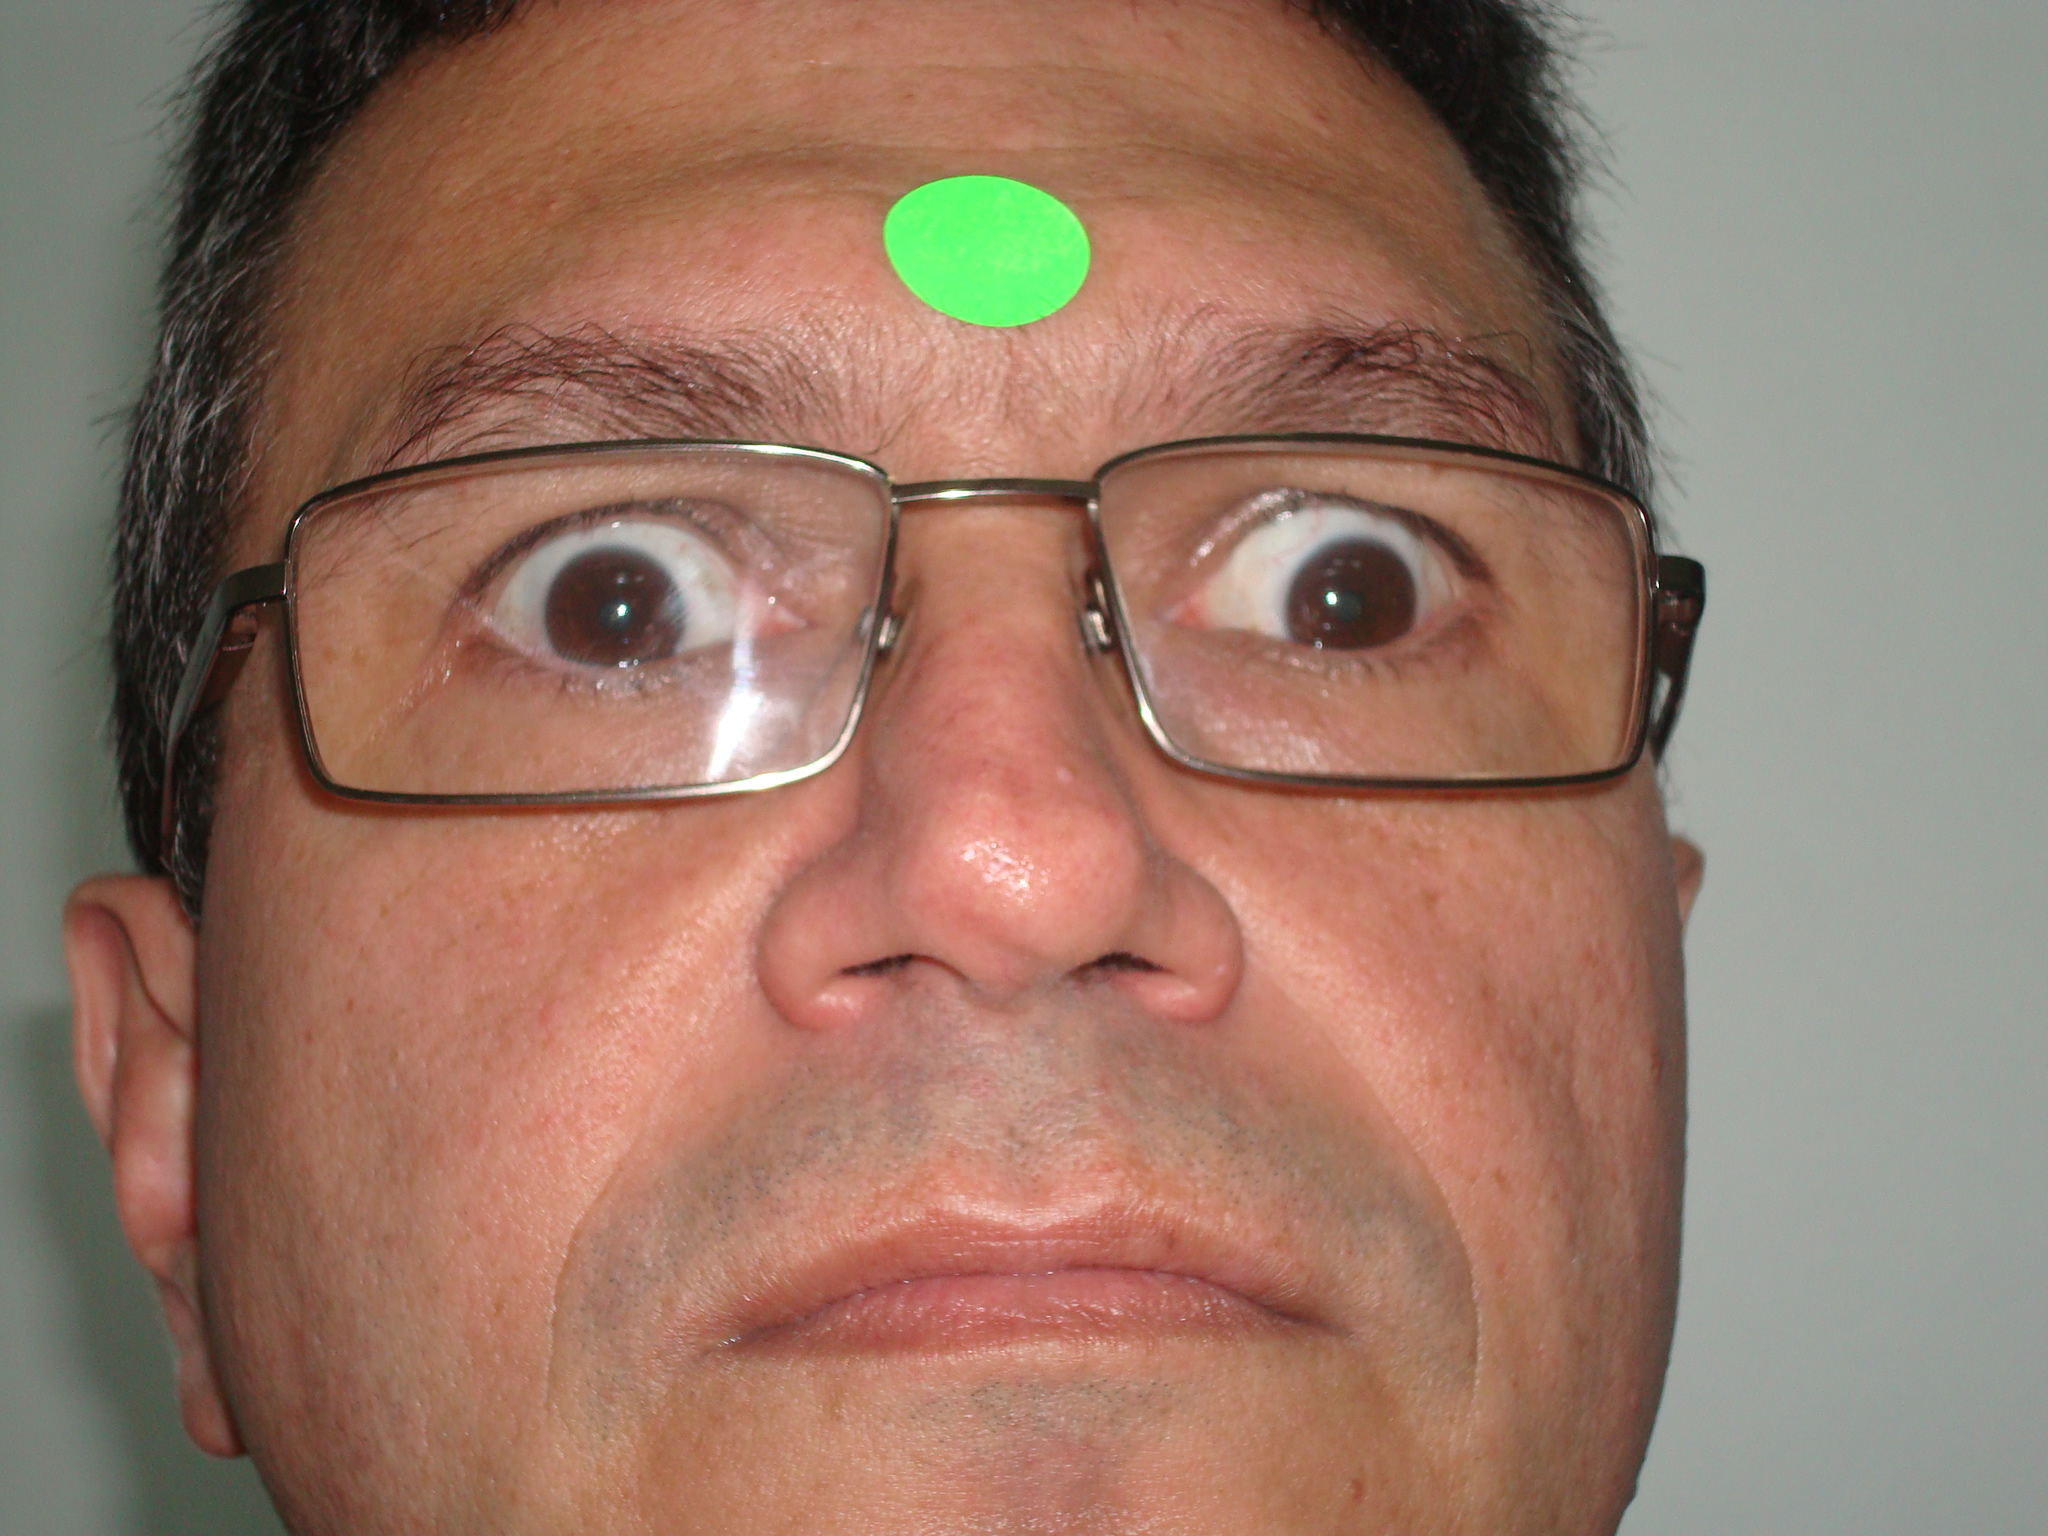flash: (610, 597, 634, 623), (1319, 587, 1343, 608)
limbo: (548, 545, 677, 687), (1279, 550, 1413, 666)
